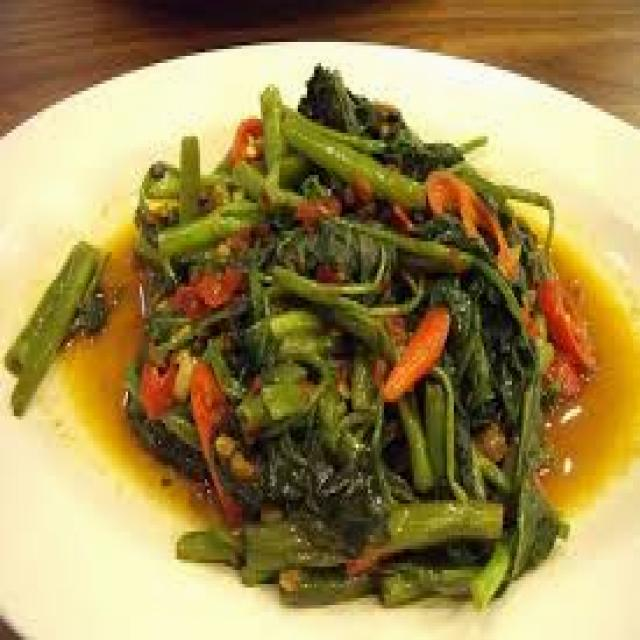tumis kangkung: (56, 70, 640, 616)
